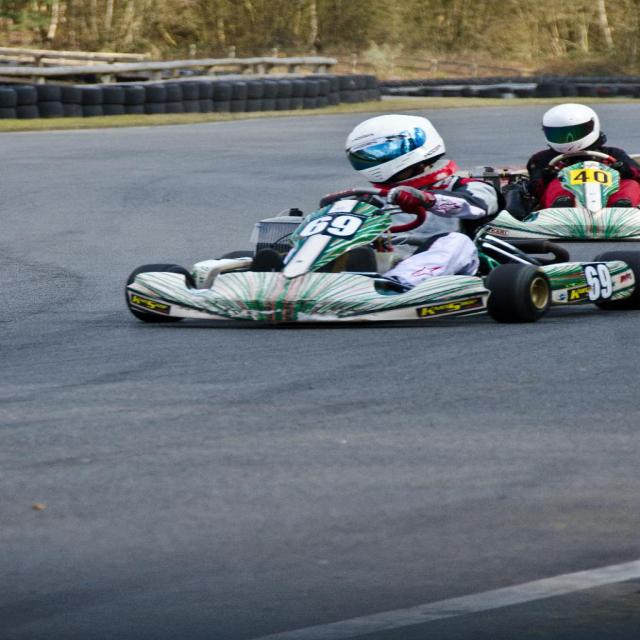car: (127, 186, 638, 324)
